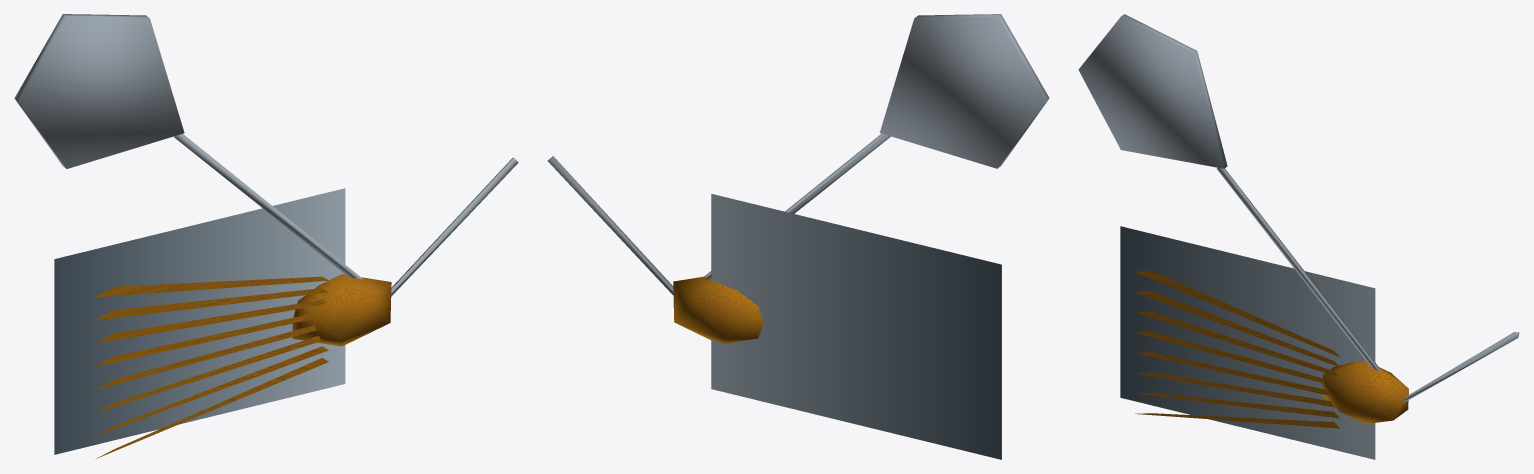
File: spinnerbait.glb
3 renders of one model, left to right at view 1: azimuth 30°, elevation 25°; view 2: azimuth 150°, elevation 25°; view 3: azimuth 330°, elevation 25°, orthographic. The views are drawn at different scales.
Visible parts, largest first — view 1: Spinnerbait_single_hook_ALPHA, Spinnerbait_blade_MESH, Weighted_head_MESH, V_wire_MESH, Skirt_ribbon_MESH.007, Skirt_ribbon_MESH.006, Skirt_ribbon_MESH.005, Skirt_ribbon_MESH.004, Skirt_ribbon_MESH.003, Skirt_ribbon_MESH.002, Skirt_ribbon_MESH.001, Skirt_ribbon_MESH; view 2: Spinnerbait_single_hook_ALPHA, Spinnerbait_blade_MESH, Weighted_head_MESH, V_wire_MESH; view 3: Spinnerbait_single_hook_ALPHA, Spinnerbait_blade_MESH, Weighted_head_MESH, V_wire_MESH, Skirt_ribbon_MESH.007, Skirt_ribbon_MESH.006, Skirt_ribbon_MESH.005, Skirt_ribbon_MESH.004, Skirt_ribbon_MESH.003, Skirt_ribbon_MESH.002, Skirt_ribbon_MESH.001, Skirt_ribbon_MESH.
Part boxes in pixels (bbox=[...]): Spinnerbait_single_hook_ALPHA: bbox=[54, 188, 345, 454]; Spinnerbait_blade_MESH: bbox=[14, 14, 184, 168]; Weighted_head_MESH: bbox=[292, 274, 391, 346]; V_wire_MESH: bbox=[174, 134, 518, 296]; Skirt_ribbon_MESH.007: bbox=[94, 276, 328, 297]; Skirt_ribbon_MESH.006: bbox=[94, 288, 328, 320]; Skirt_ribbon_MESH.005: bbox=[94, 300, 326, 343]; Skirt_ribbon_MESH.004: bbox=[94, 314, 312, 366]; Skirt_ribbon_MESH.003: bbox=[95, 325, 316, 389]; Skirt_ribbon_MESH.002: bbox=[94, 336, 323, 413]; Skirt_ribbon_MESH.001: bbox=[95, 346, 328, 435]; Skirt_ribbon_MESH: bbox=[96, 358, 328, 458]; Spinnerbait_single_hook_ALPHA: bbox=[711, 194, 1001, 459]; Spinnerbait_blade_MESH: bbox=[879, 14, 1049, 168]; Weighted_head_MESH: bbox=[673, 276, 763, 343]; V_wire_MESH: bbox=[547, 133, 890, 295]; Spinnerbait_single_hook_ALPHA: bbox=[1120, 226, 1375, 459]; Spinnerbait_blade_MESH: bbox=[1078, 14, 1227, 168]; Weighted_head_MESH: bbox=[1322, 360, 1408, 423]; V_wire_MESH: bbox=[1216, 168, 1519, 402]; Skirt_ribbon_MESH.007: bbox=[1134, 271, 1339, 356]; Skirt_ribbon_MESH.006: bbox=[1134, 291, 1339, 367]; Skirt_ribbon_MESH.005: bbox=[1134, 311, 1337, 375]; Skirt_ribbon_MESH.004: bbox=[1134, 332, 1325, 383]; Skirt_ribbon_MESH.003: bbox=[1134, 352, 1329, 395]; Skirt_ribbon_MESH.002: bbox=[1134, 372, 1334, 407]; Skirt_ribbon_MESH.001: bbox=[1135, 393, 1339, 418]; Skirt_ribbon_MESH: bbox=[1135, 413, 1339, 428].
Bounding box in the file's own units: 0.0723 × 0.0612 × 0.00681.
Materials: 3 (2 with a texture image).
